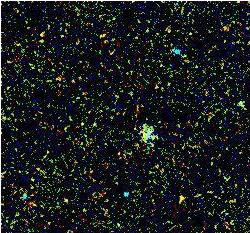star: (166, 187, 196, 217)
